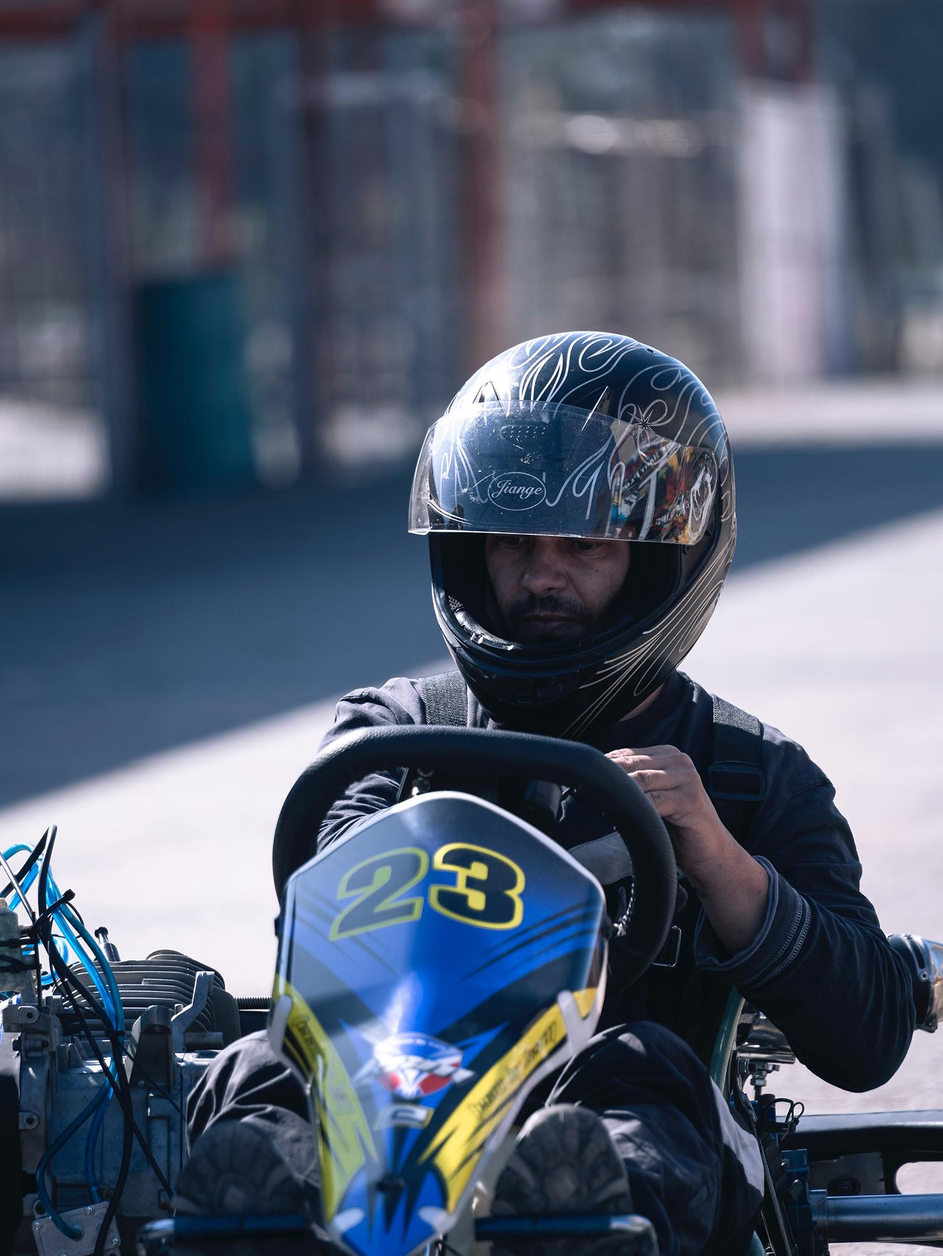helmet: (406, 328, 739, 753)
